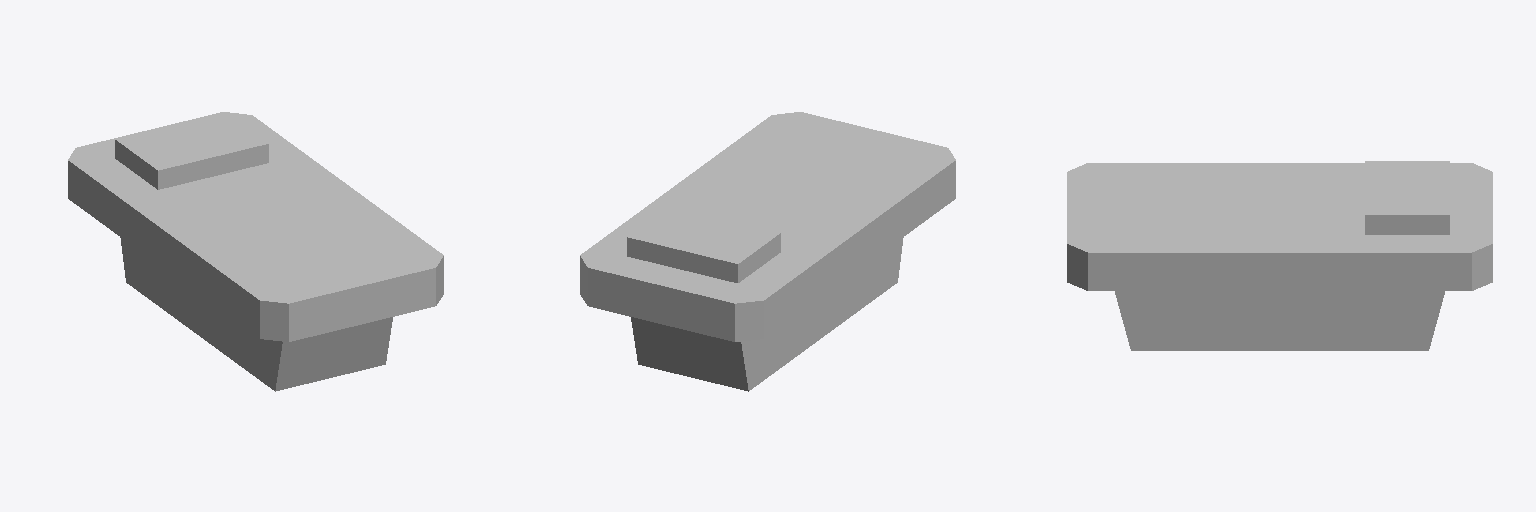
The model's file is bed-single.obj.
3 views of the same model, side by side, from view 1: azimuth 30°, elevation 25°; view 2: azimuth 150°, elevation 25°; view 3: azimuth 270°, elevation 25° (orthographic).
Visible parts, largest first — view 1: bed-single; view 2: bed-single; view 3: bed-single.
Part boxes in pixels (x1,y1,x2,y2): bed-single: (68, 112, 443, 391); bed-single: (580, 112, 955, 391); bed-single: (1067, 161, 1492, 350).
Size of the model in its own units: 0.5 by 0.35 by 1.